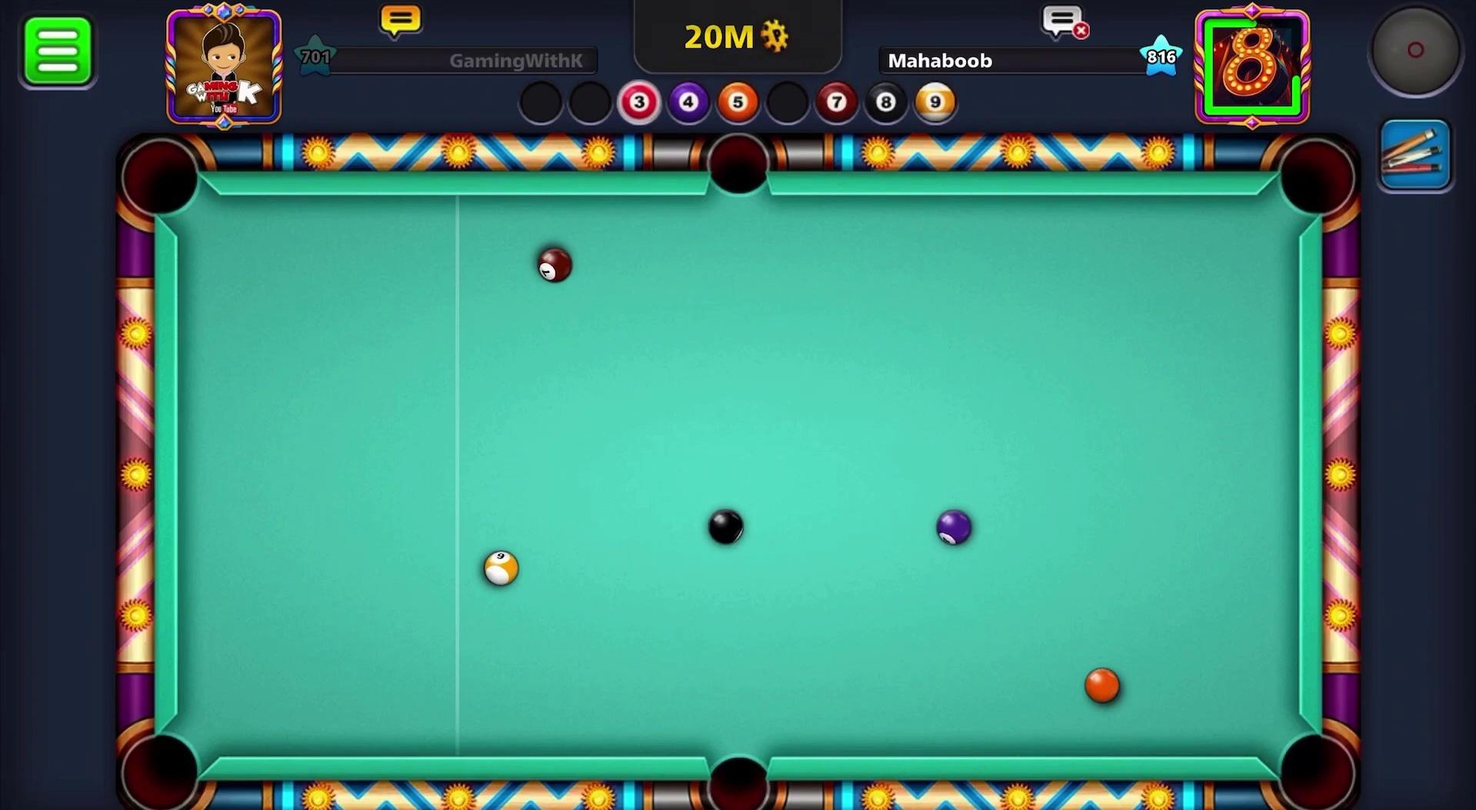Ball: (926, 503, 981, 553), (698, 504, 751, 550), (477, 544, 524, 589), (1079, 663, 1125, 703), (529, 245, 575, 284)
Hole: (1264, 712, 1364, 809), (1268, 133, 1364, 229), (112, 131, 205, 226), (115, 727, 205, 809), (695, 736, 779, 809), (701, 124, 776, 200)
Play_Area: (177, 195, 1298, 759)
Spin: (1355, 2, 1474, 110)
